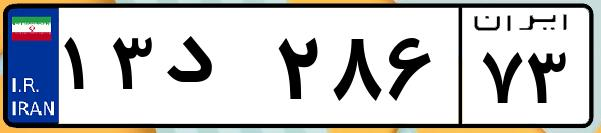1: (57, 26, 110, 100)
2: (270, 28, 330, 110)
3: (525, 38, 570, 115), (110, 28, 158, 98)
6: (385, 28, 445, 110)
7: (475, 38, 525, 113)
8: (330, 28, 385, 110)
د: (158, 20, 270, 120)
